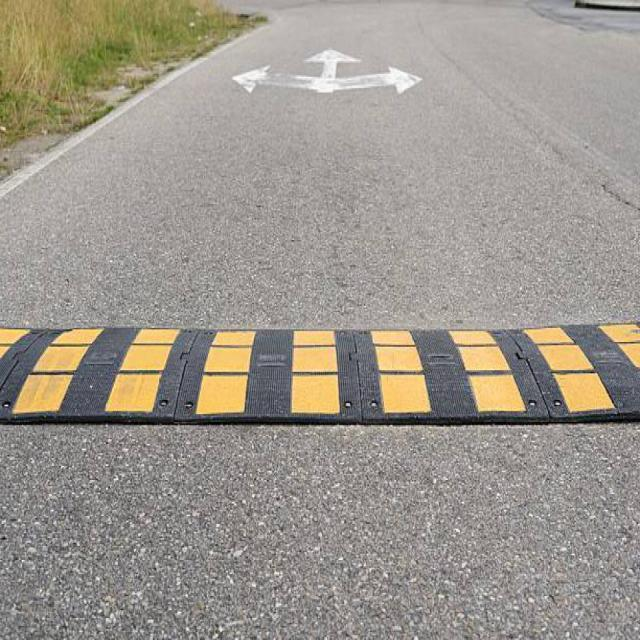speedbreaker: (0, 308, 640, 432)
